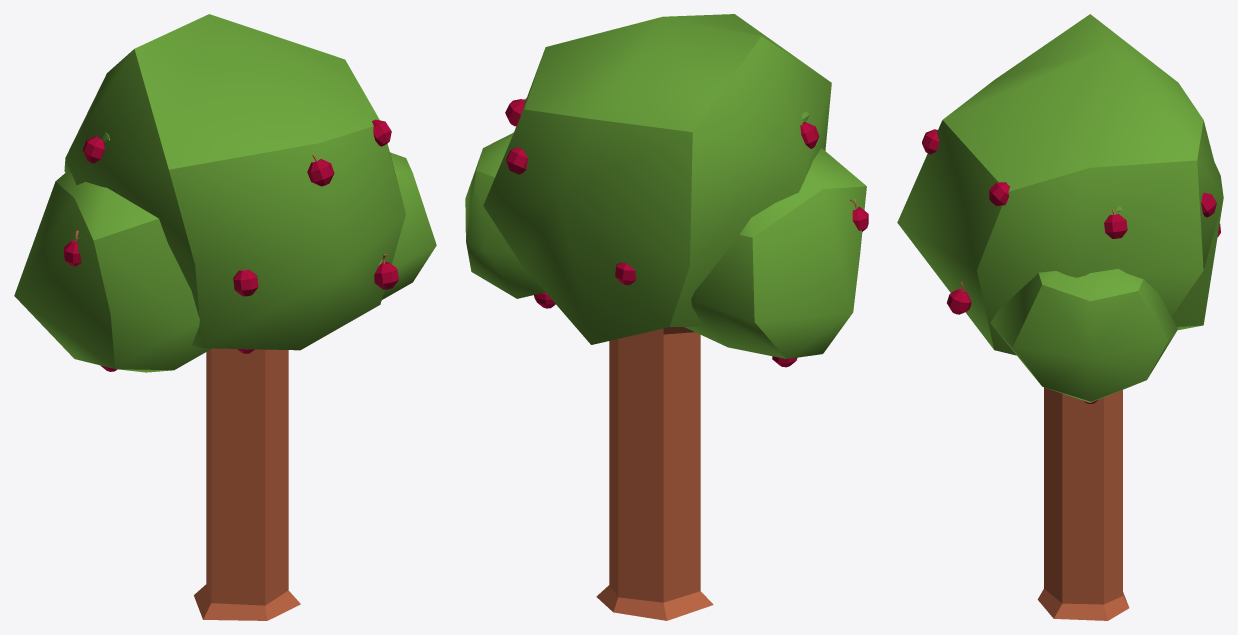
The model's file is Apple Tree.obj.
The picture shows the model from 3 angles, left to right: view 1: azimuth 30°, elevation 25°; view 2: azimuth 150°, elevation 25°; view 3: azimuth 270°, elevation 25°; orthographic projection. The views are drawn at different scales.
Visible parts, largest first — view 1: Apple_Tree; view 2: Apple_Tree; view 3: Apple_Tree.
Boxes of the visible parts, x1,y1,x2,y2 form: Apple_Tree: (14, 14, 436, 620); Apple_Tree: (465, 14, 868, 620); Apple_Tree: (897, 14, 1223, 620).
Bounding box in the file's own units: 6.3 × 8.91 × 4.85.
Materials: 1 (1 with a texture image).
